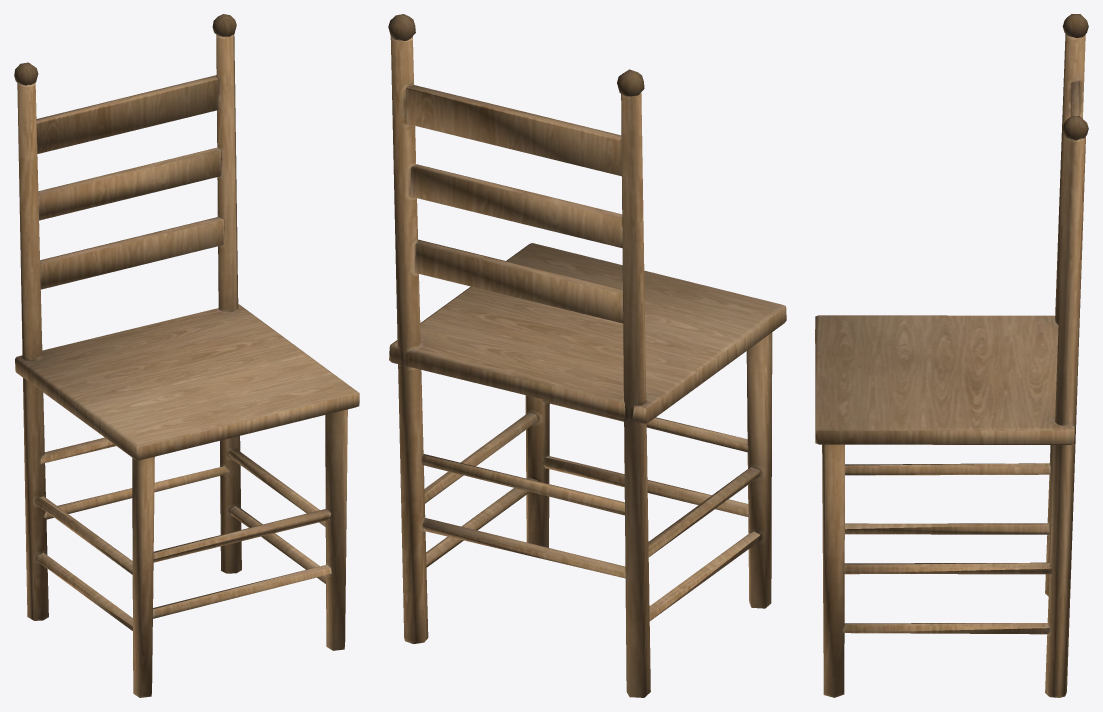
The model's file is desk_chair-low.glb.
3 renders of one model, left to right at view 1: azimuth 30°, elevation 25°; view 2: azimuth 150°, elevation 25°; view 3: azimuth 270°, elevation 25°, orthographic. The views are drawn at different scales.
Visible parts, largest first — view 1: desk_chair-low; view 2: desk_chair-low; view 3: desk_chair-low.
Part boxes in pixels (<box>): desk_chair-low: <box>14,14,359,697</box>; desk_chair-low: <box>388,14,786,697</box>; desk_chair-low: <box>815,14,1088,697</box>.
Bounding box in the file's own units: 0.4172 × 0.9755 × 0.4186.
Materials: 1 (1 with a texture image).
